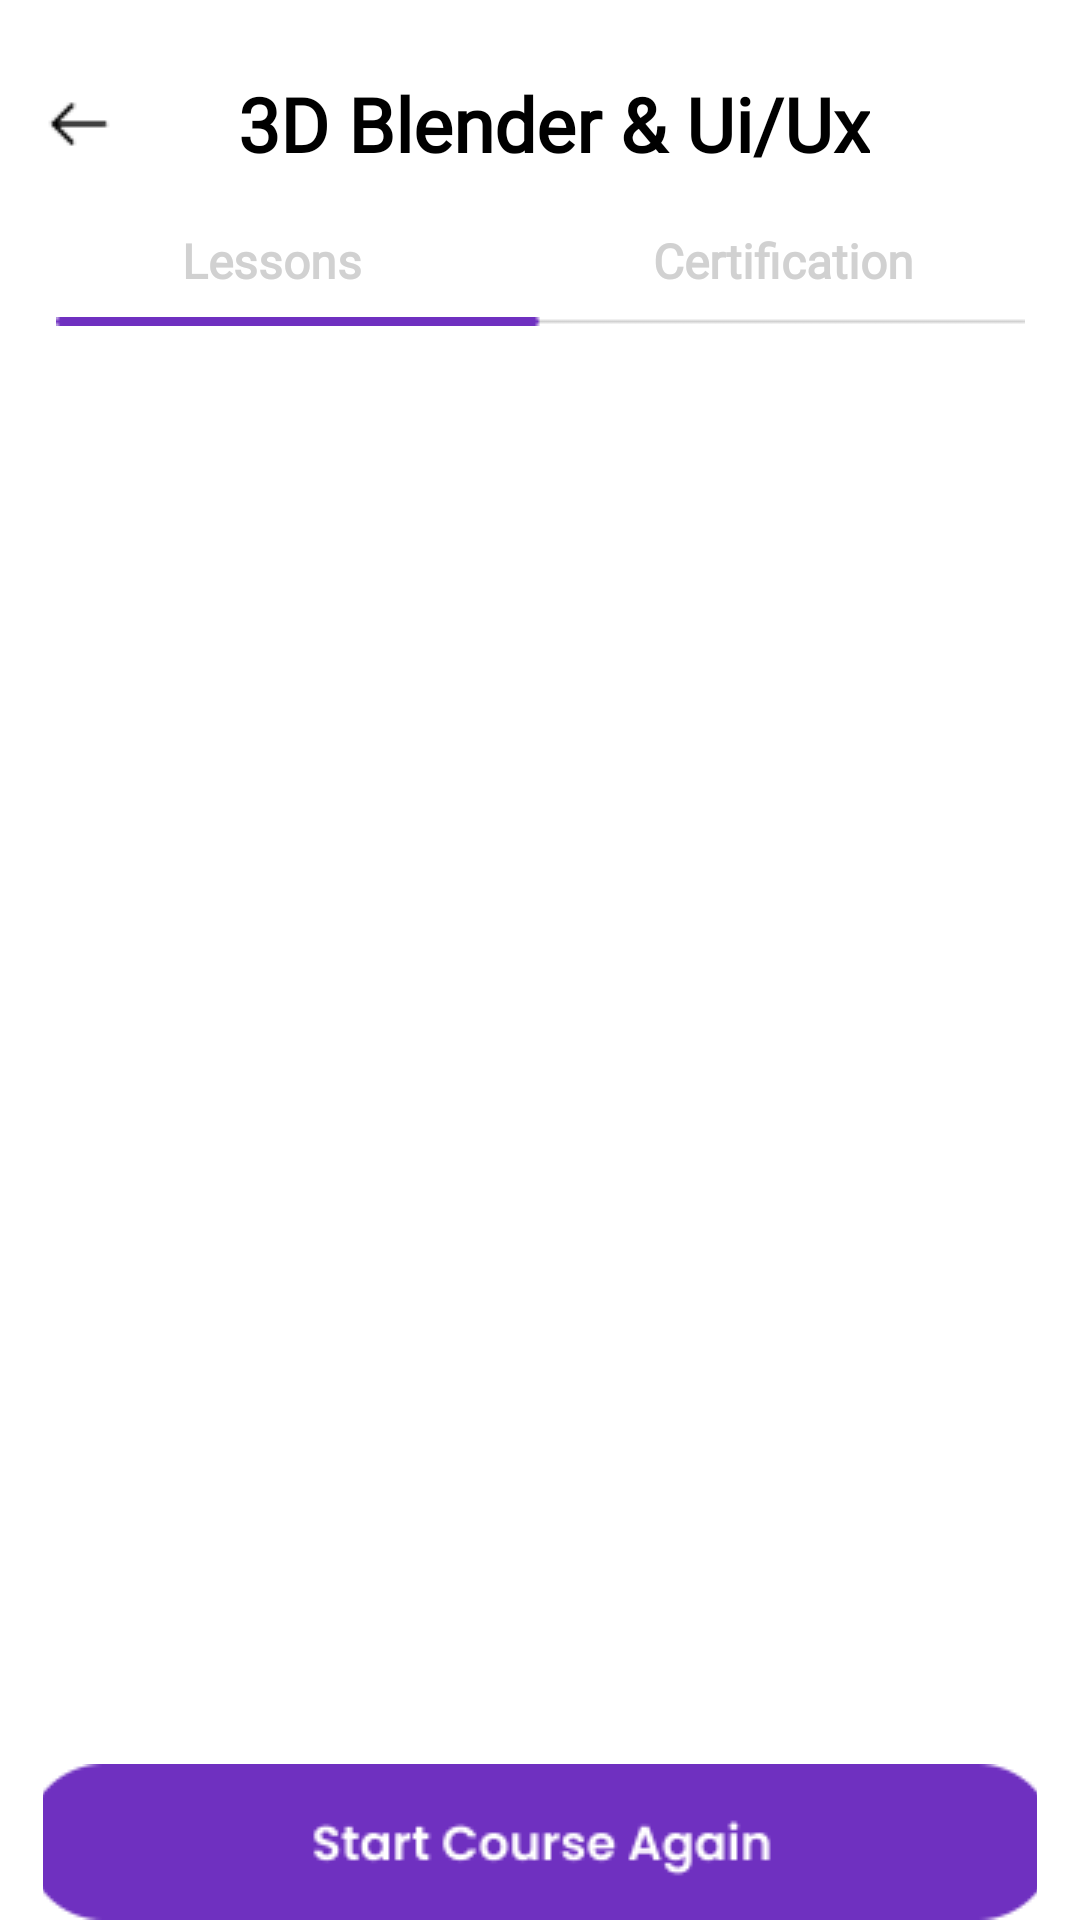

Icon click points for this 1080 × 1920 phone screenshot, format (x=x, y=y):
back arrow: (x=79, y=124)
